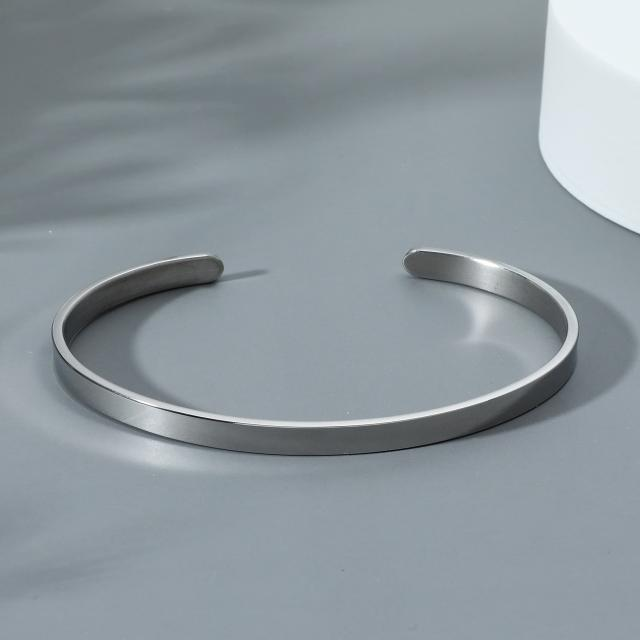bracelet: (0, 168, 640, 530)
